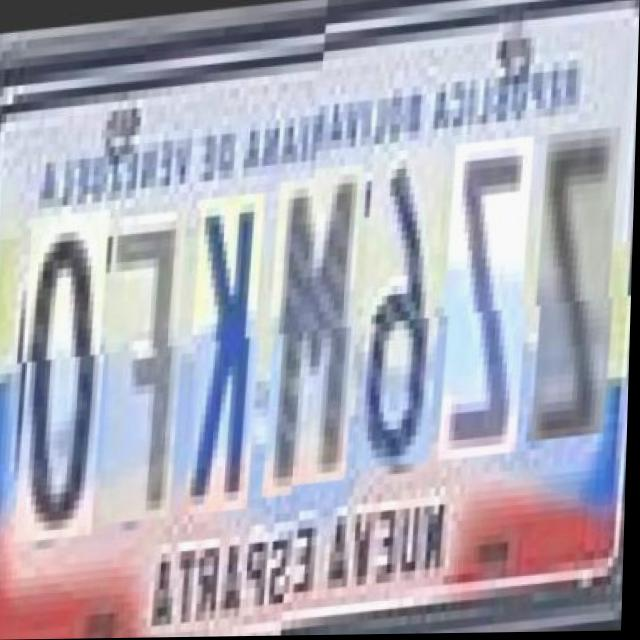6: (358, 152, 448, 475)
f: (100, 191, 191, 514)
k: (187, 186, 269, 507)
m: (265, 168, 366, 491)
o: (17, 200, 113, 531)
z: (440, 145, 536, 468), (532, 136, 623, 450)
